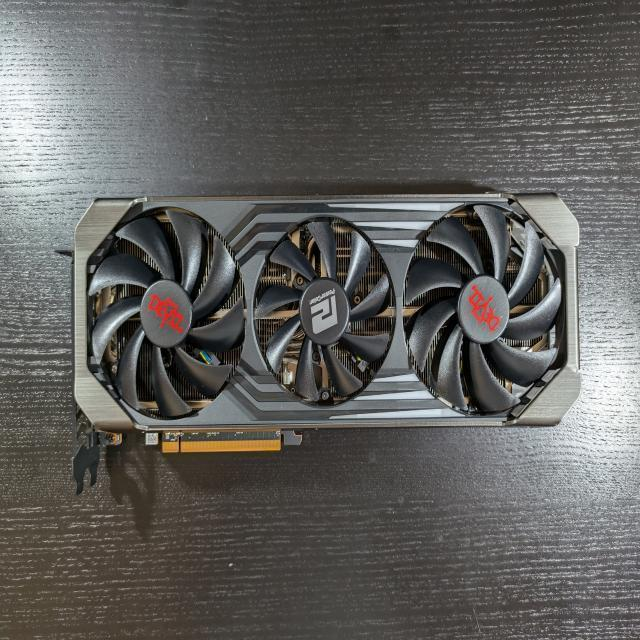GPU: (64, 189, 588, 454)
